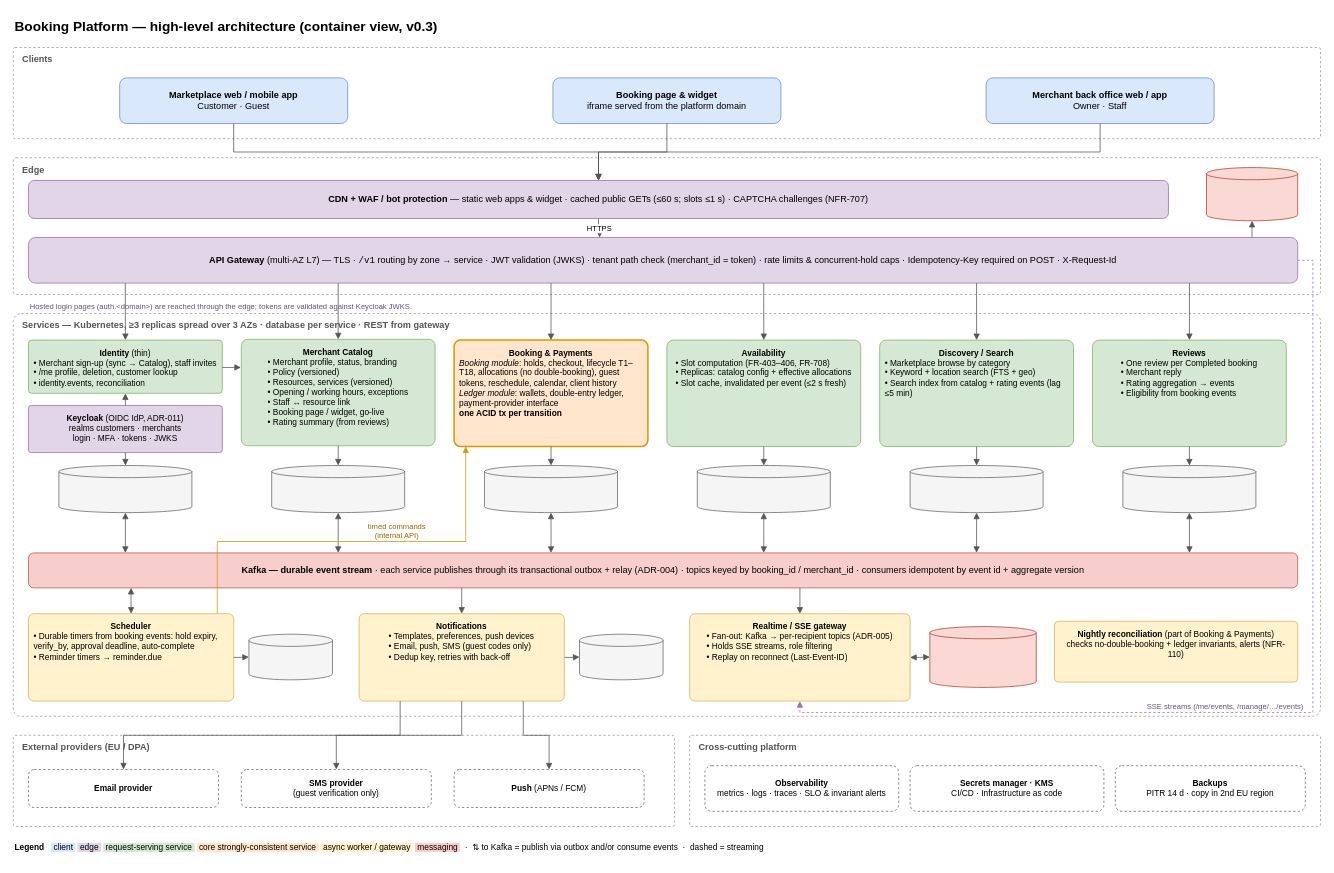
The diagram is 1334 pixels wide and 873 high, and some of its shapes have lost their labels. The shapes that lost their labels are listed below. From the top down, each one's centre as x and y in pixels, then its label:
At point (1252, 194): "Redis rate limits · hold caps".
At point (125, 489): "PostgreSQL identity + keycloak DB".
At point (338, 489): "PostgreSQL catalog".
At point (551, 489): "PostgreSQL booking + ledger · sync standby".
At point (763, 489): "PostgreSQL replicas + Redis slot cache".
At point (976, 489): "PostgreSQL PostGIS + FTS".
At point (1189, 489): "PostgreSQL reviews".
At point (290, 656): "PostgreSQL timers".
At point (621, 656): "PostgreSQL notifications".
At point (982, 656): "Redis Pub/Sub topics + Streams (replay ≥5 min)".
